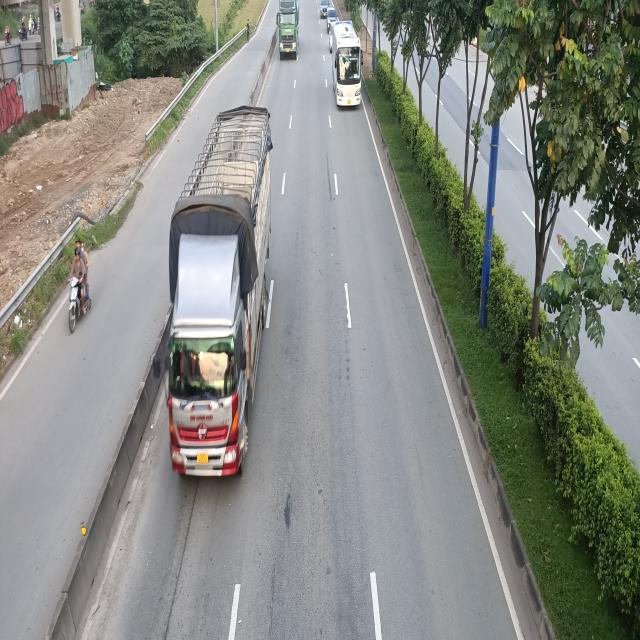car: (320, 0, 329, 18)
coach: (333, 21, 363, 110)
container: (276, 0, 299, 58)
truck: (158, 106, 278, 482)
